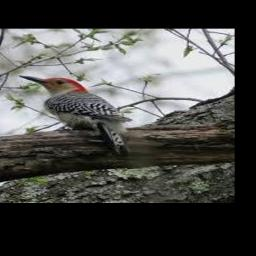Woodpecker: (18, 75, 131, 155)
